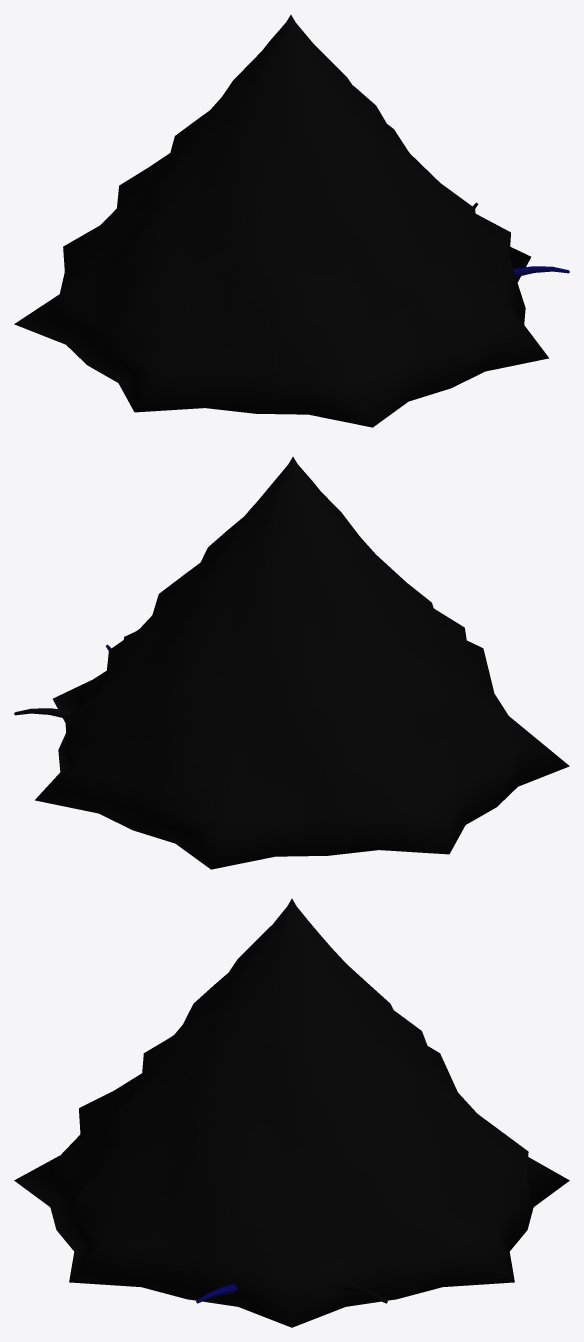
Rendered from astrea.glb.
3 views of the same model, one above another, from view 1: azimuth 30°, elevation 25°; view 2: azimuth 150°, elevation 25°; view 3: azimuth 270°, elevation 25° (orthographic). The views are drawn at different scales.
Parts seen in each view (by area): view 1: Shell; view 2: Shell; view 3: Shell, Tentacles.
Part boxes in pixels (x1,y1,x2,y2): Shell: (14, 15, 548, 427); Shell: (35, 457, 569, 869); Shell: (14, 898, 569, 1327); Tentacles: (196, 1283, 387, 1303).
Size of the model in its own units: 1.14 by 0.77 by 1.17.
Materials: 1 (1 with a texture image).
